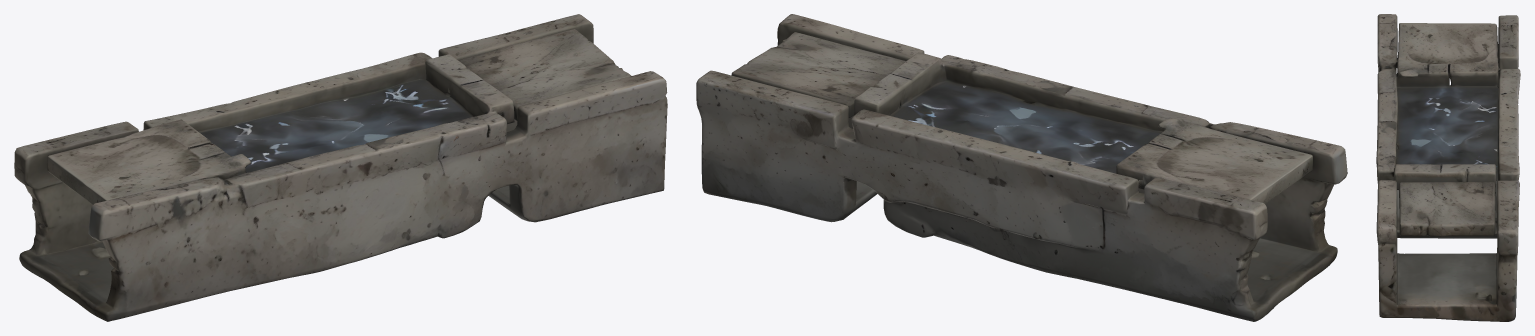
File: gutter.glb
3 views of the same model, side by side, from view 1: azimuth 30°, elevation 25°; view 2: azimuth 150°, elevation 25°; view 3: azimuth 270°, elevation 25° (orthographic). The views are drawn at different scales.
Visible parts, largest first — view 1: tripo_node_14096d9a-a8b8-429b-affe-51b8678e0c11; view 2: tripo_node_14096d9a-a8b8-429b-affe-51b8678e0c11; view 3: tripo_node_14096d9a-a8b8-429b-affe-51b8678e0c11.
Boxes of the visible parts, x1,y1,x2,y2 form: tripo_node_14096d9a-a8b8-429b-affe-51b8678e0c11: (14,14,667,321); tripo_node_14096d9a-a8b8-429b-affe-51b8678e0c11: (696,14,1347,321); tripo_node_14096d9a-a8b8-429b-affe-51b8678e0c11: (1376,14,1520,321).
Bounding box in the file's own units: 4 × 0.8295 × 1.12.
1 material, 1 textured.
